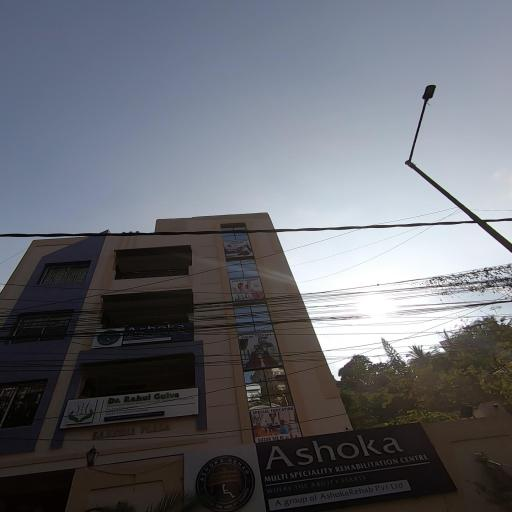off: (384, 54, 452, 198)
